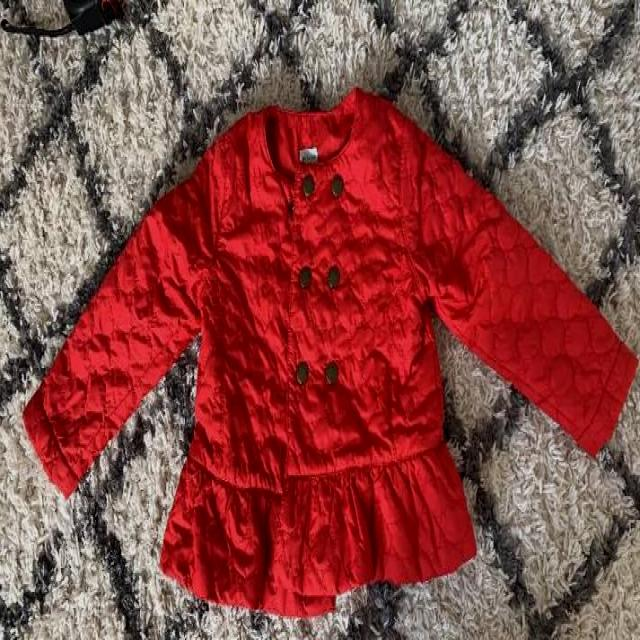inorganic: (48, 470, 54, 480), (286, 302, 290, 307)
